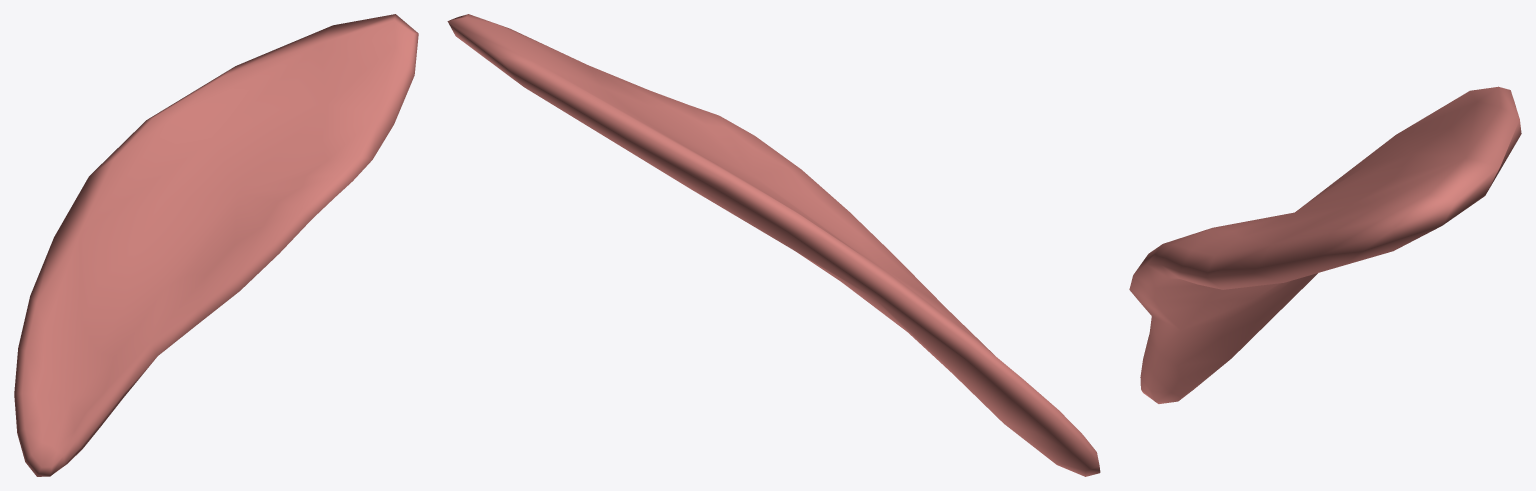
3 views of the same model, side by side, from view 1: azimuth 30°, elevation 25°; view 2: azimuth 150°, elevation 25°; view 3: azimuth 270°, elevation 25° (orthographic). The views are drawn at different scales.
Visible parts, largest first — view 1: ZA_7435296ad4a36594; view 2: ZA_7435296ad4a36594; view 3: ZA_7435296ad4a36594.
Boxes of the visible parts, <box> form: ZA_7435296ad4a36594: <box>14,14,418,476</box>; ZA_7435296ad4a36594: <box>447,14,1100,476</box>; ZA_7435296ad4a36594: <box>1129,86,1521,403</box>.
Bounding box in the file's own units: 0.00973 × 0.00633 × 0.00369.
